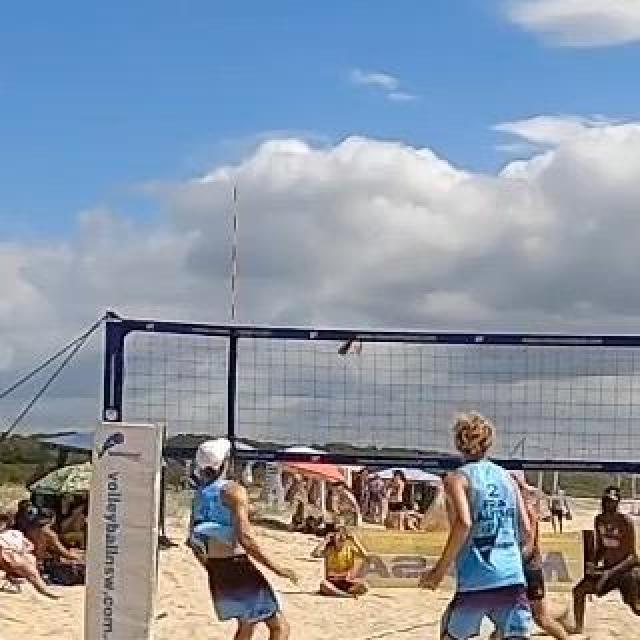volleyball: (337, 332, 361, 356)
